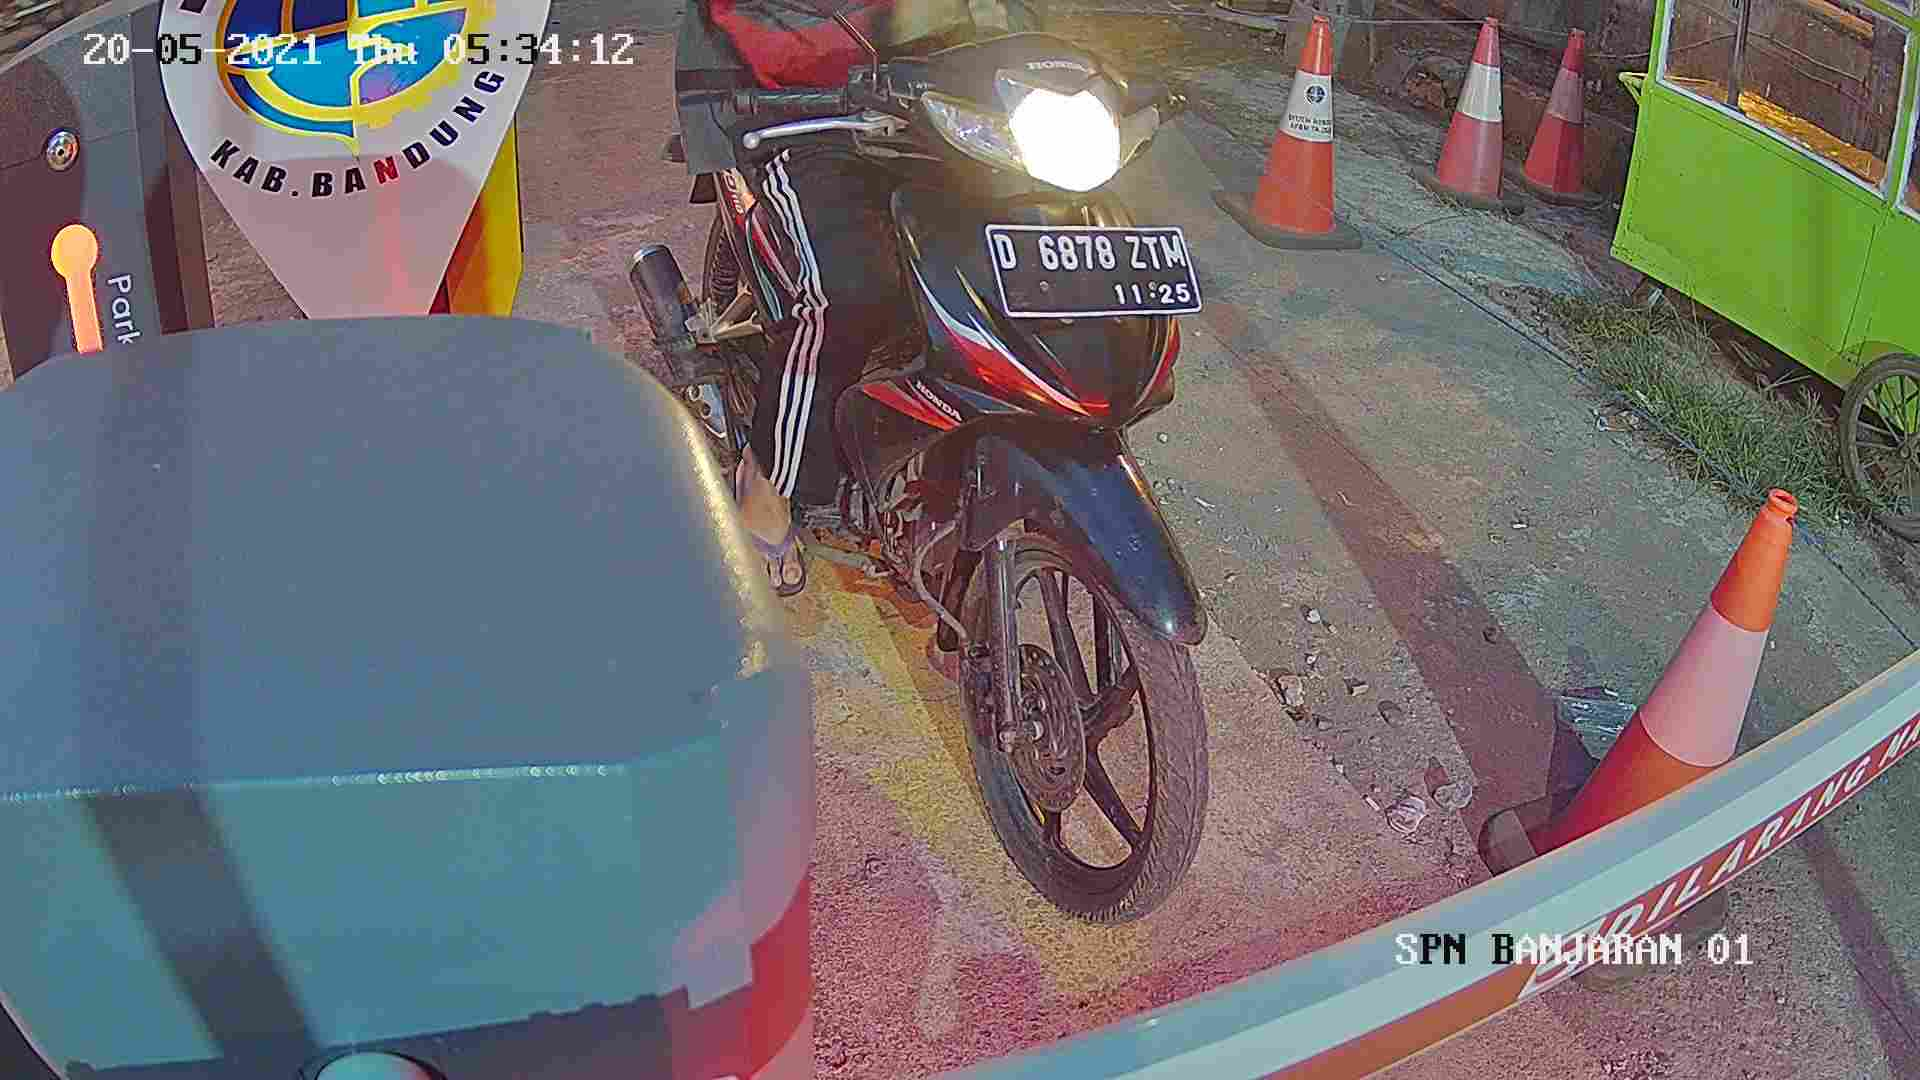motor: (616, 58, 1244, 939)
